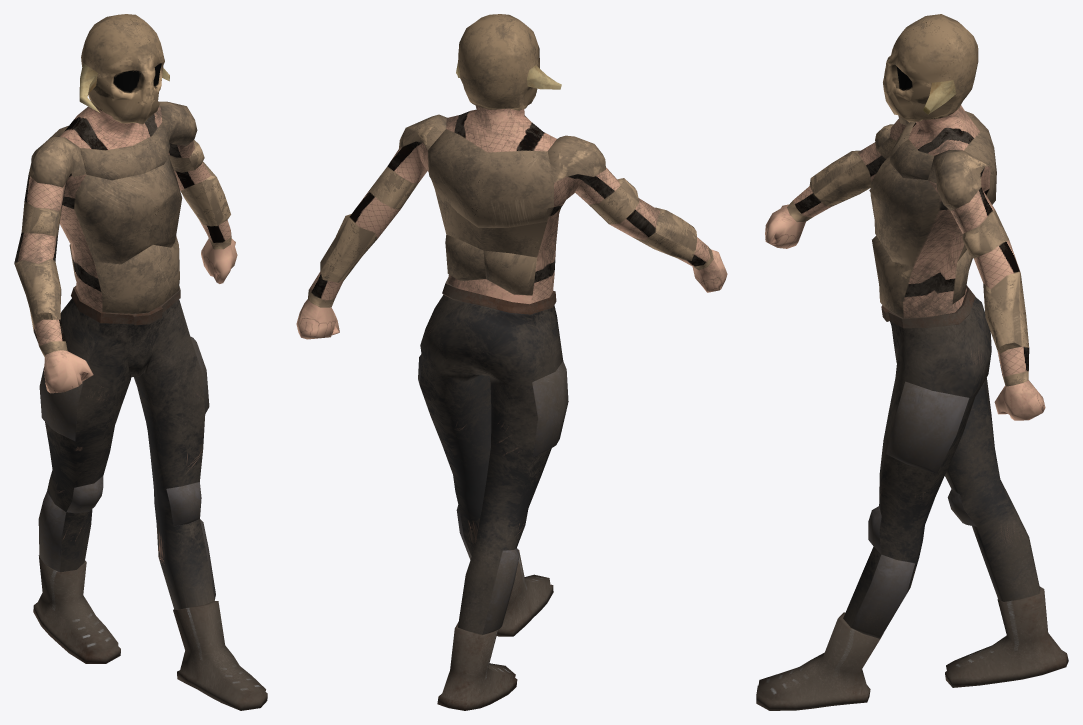
File: Anim_andar_npc1.0033.obj
3 views of the same model, side by side, from view 1: azimuth 30°, elevation 25°; view 2: azimuth 150°, elevation 25°; view 3: azimuth 270°, elevation 25° (orthographic). The views are drawn at different scales.
Parts seen in each view (by area): view 1: Anim_andar_npc1; view 2: Anim_andar_npc1; view 3: Anim_andar_npc1.
Part boxes in pixels (bbox=[...]): Anim_andar_npc1: bbox=[14, 14, 267, 710]; Anim_andar_npc1: bbox=[296, 14, 727, 710]; Anim_andar_npc1: bbox=[756, 14, 1068, 710].
Size of the model in its own units: 4.71 by 9.63 by 4.09.
